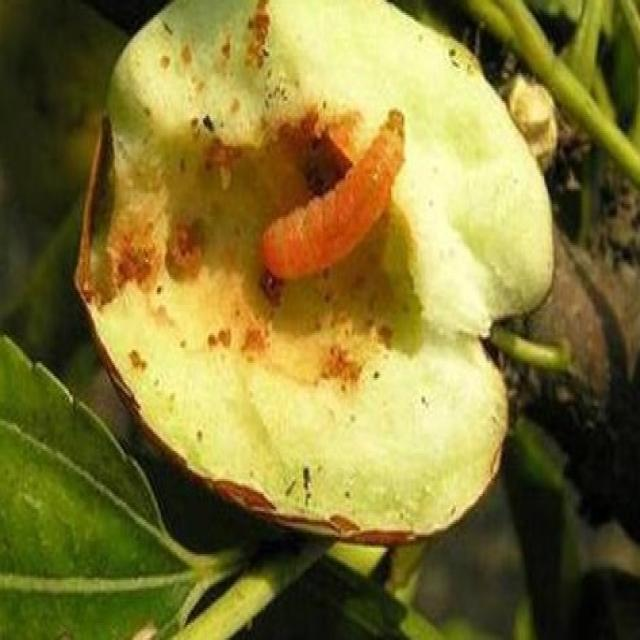peach borer: (266, 106, 408, 300)
